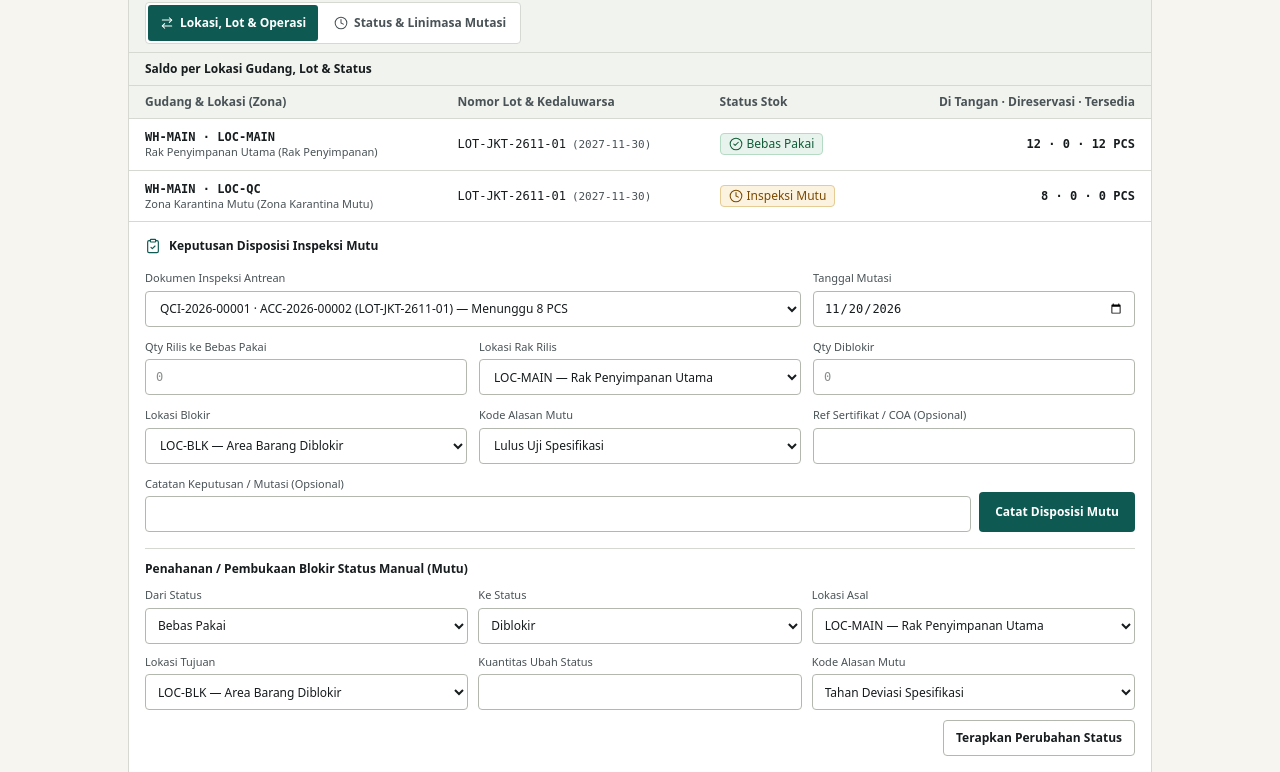
Test case: S08 Stock Availability, Locations, Lots & Quality Restrictions UI › submits quality disposition for U2 and surfaces OD-10 conflict banner on over-reservation
The width and height of the screenshot is (1280, 772).
(page scrolled)
Expected: the button with id "inv-disp-submit" is shown, [979, 492, 1135, 532]
Type "5" into the field with id "inv-disp-release-qty" at (306, 378), box [145, 360, 467, 396]
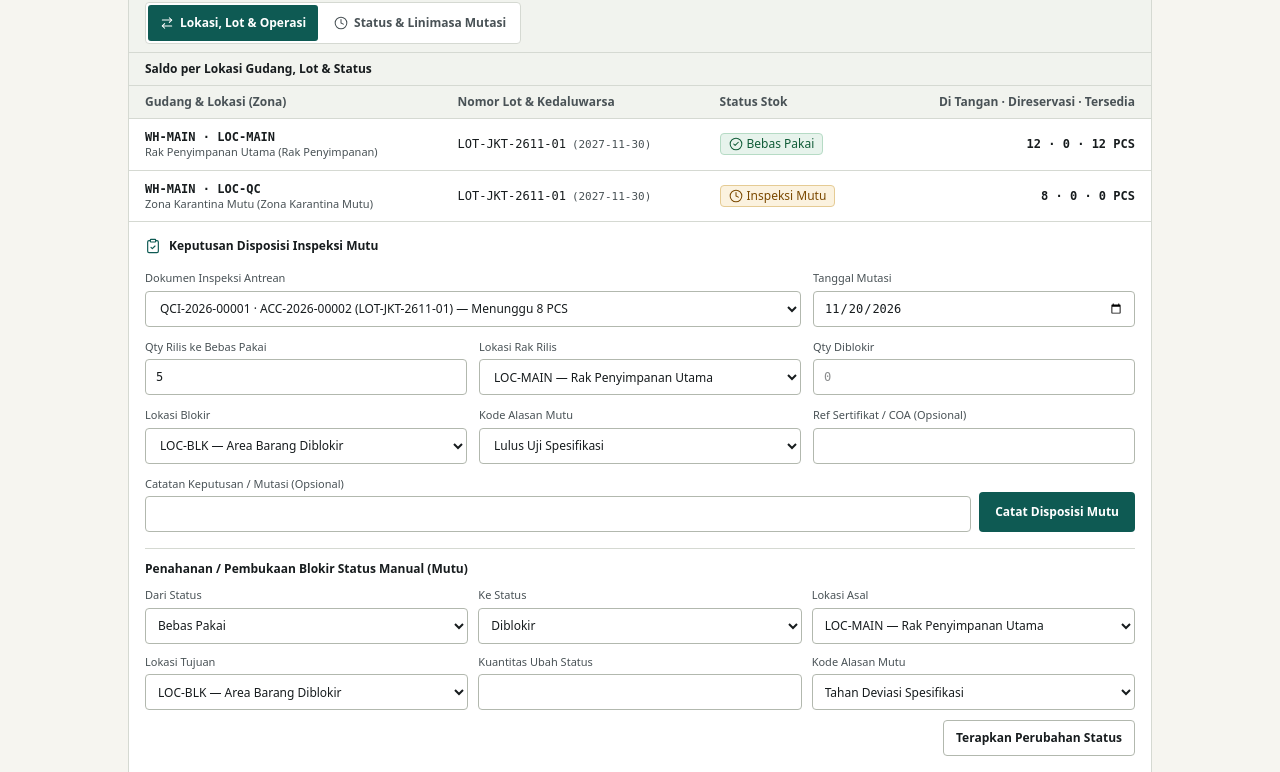
Type "3" into the field with id "inv-disp-block-qty" at (974, 378), box [813, 360, 1135, 396]
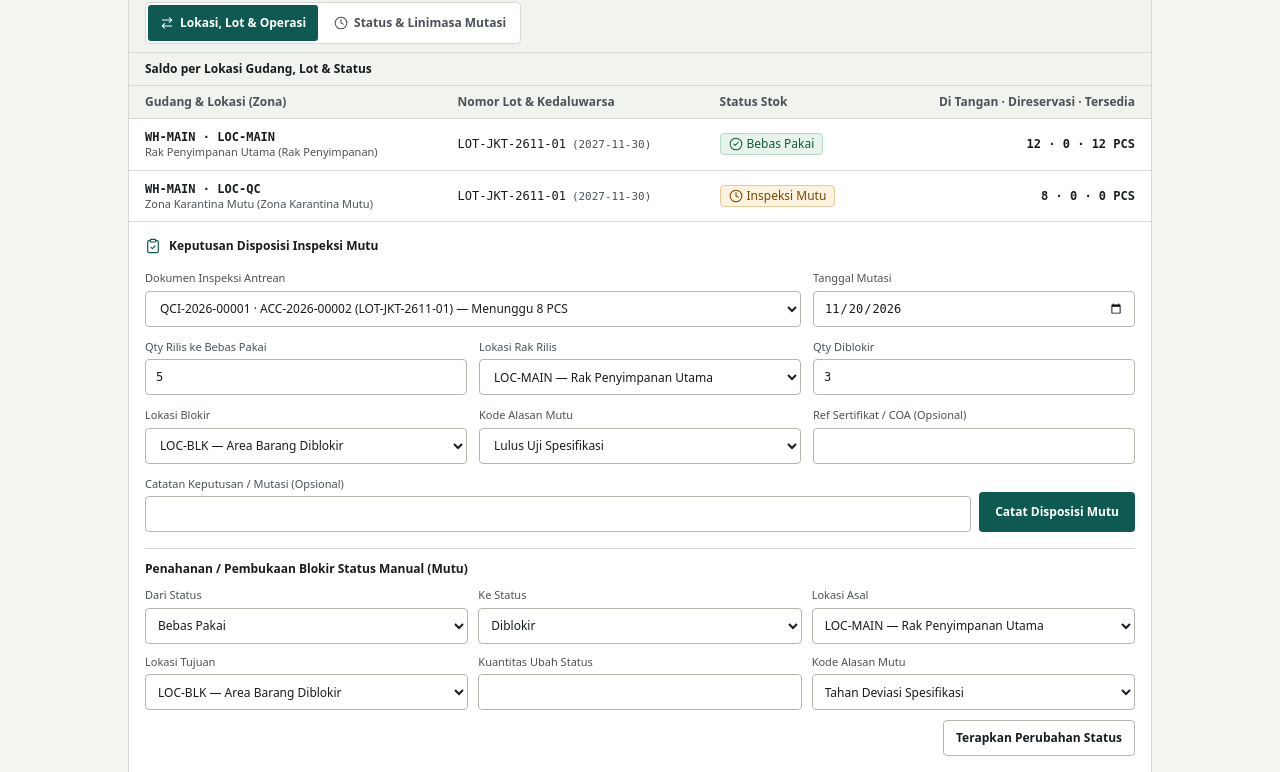
Click the button with id "inv-disp-submit" at (1057, 512), box [979, 492, 1135, 532]
(page scrolled)
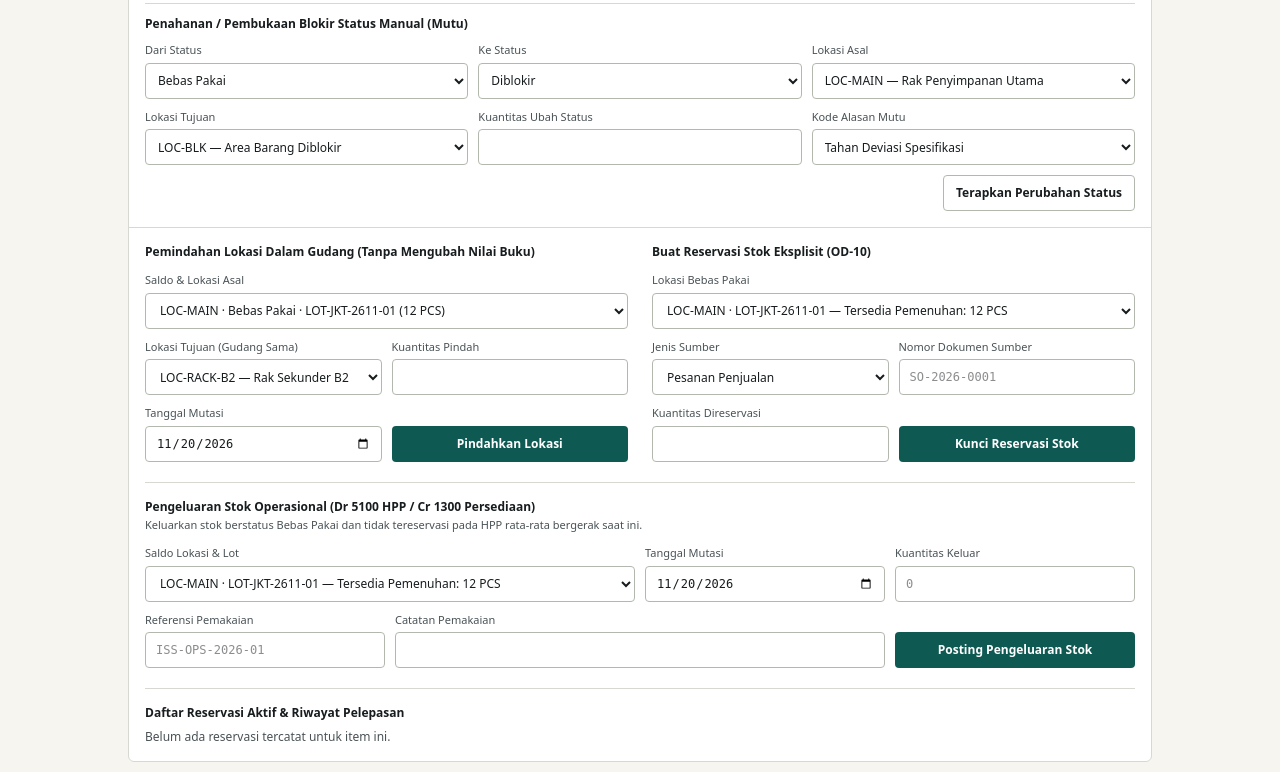
Type "SO-OVER" into the field with id "inv-rsv-source-doc" at (1017, 378), box [898, 360, 1135, 396]
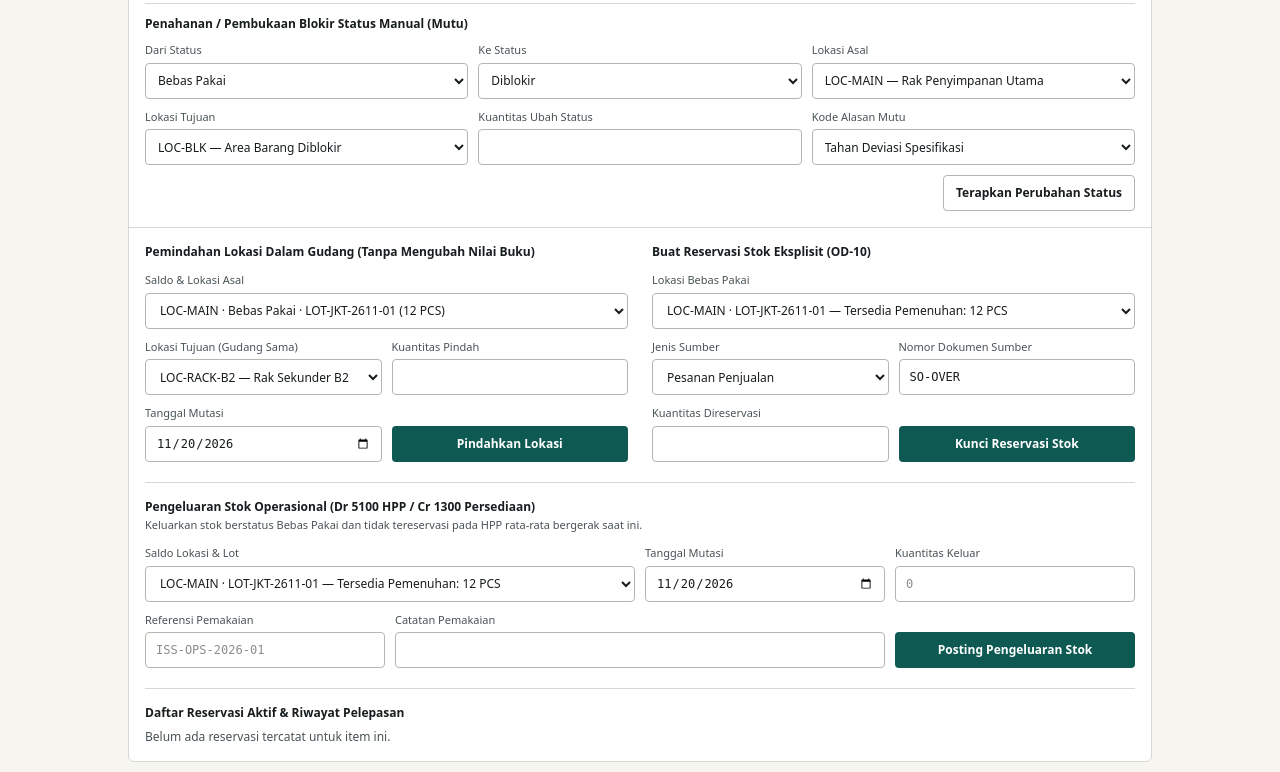
Type "99" into the field with id "inv-rsv-qty" at (770, 444), box [652, 426, 888, 462]
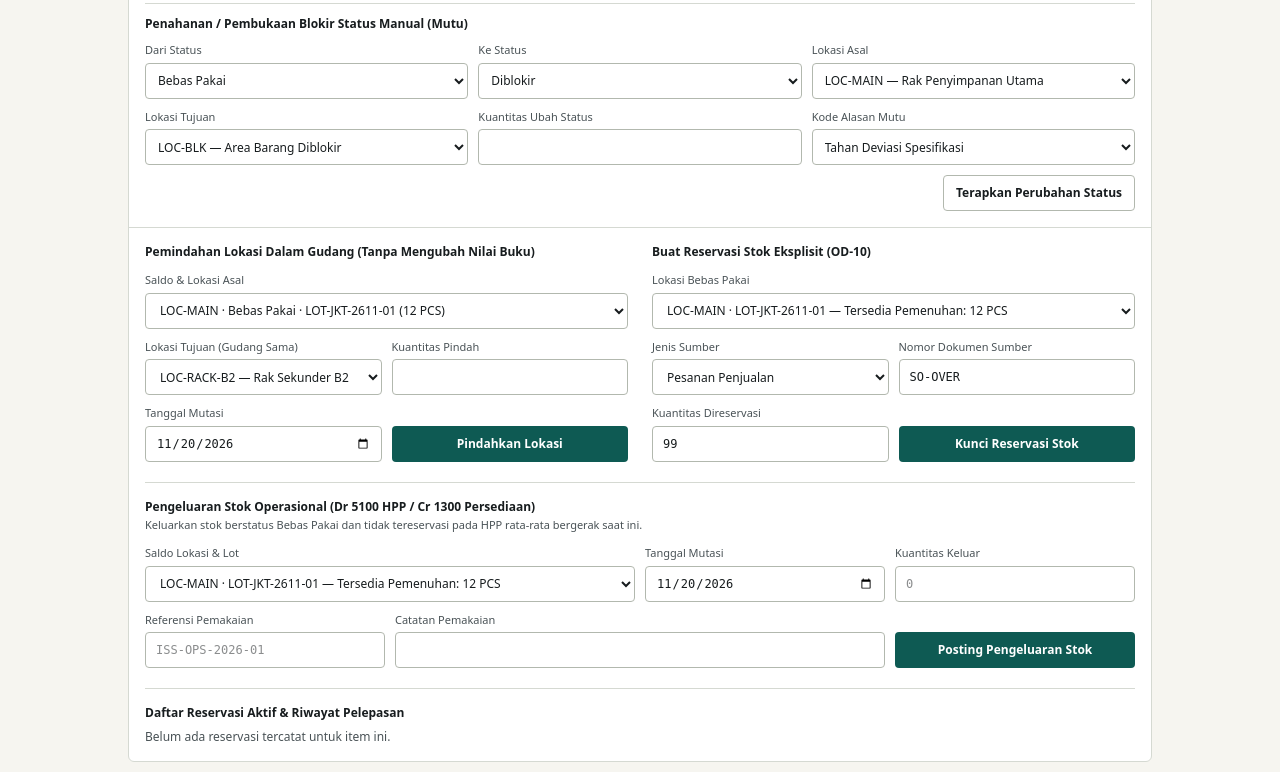
Click the button with id "inv-rsv-submit" at (1017, 444), box [898, 426, 1135, 462]
(page scrolled)
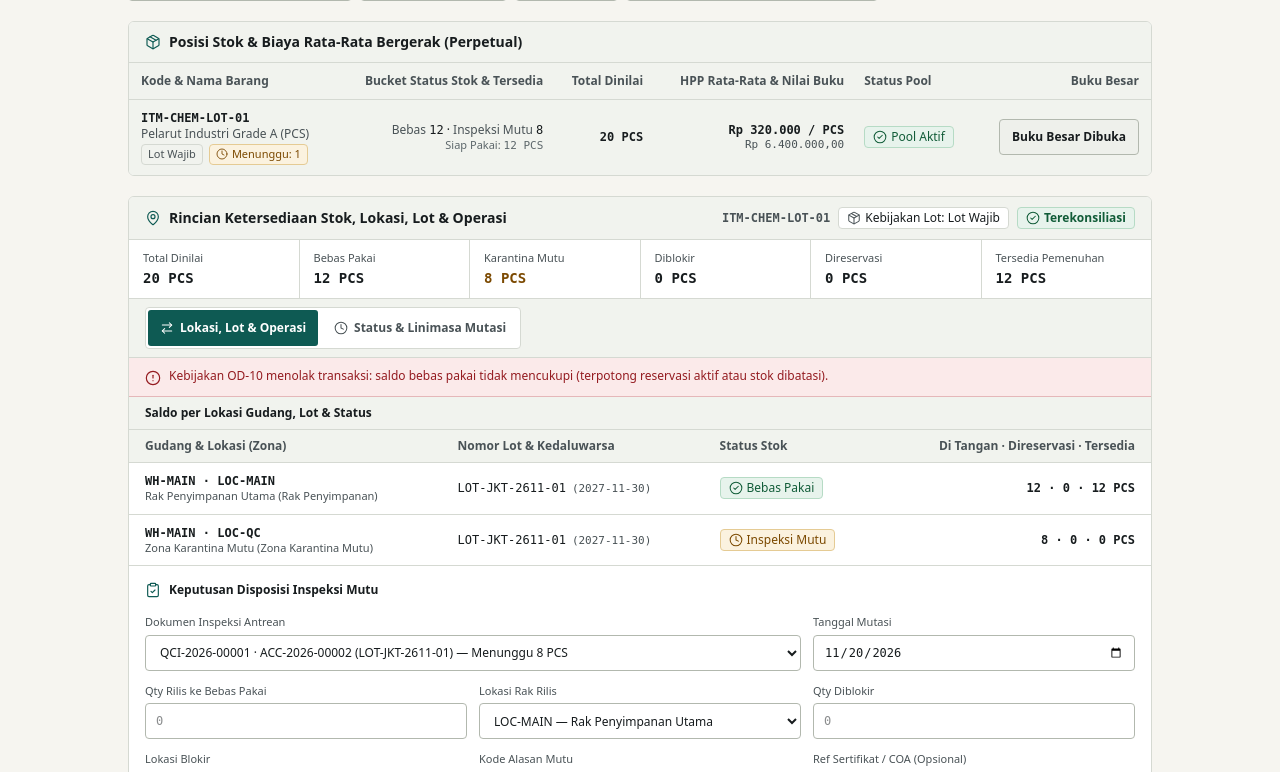
Expected: the message with id "inv-op-error" shows "OD-10", [169, 367, 828, 384]
